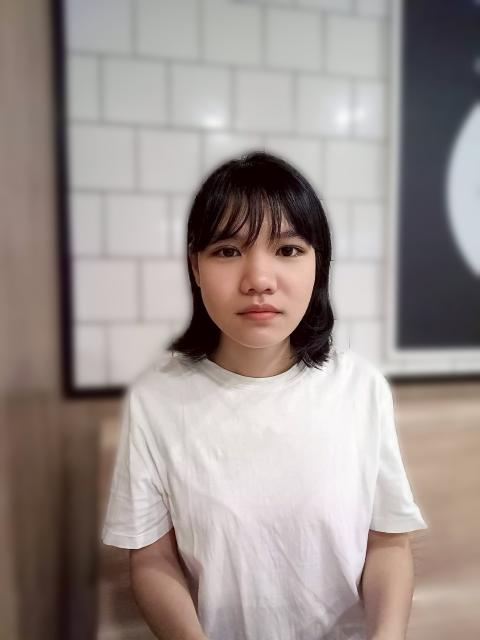fokus: (190, 165, 321, 353)
